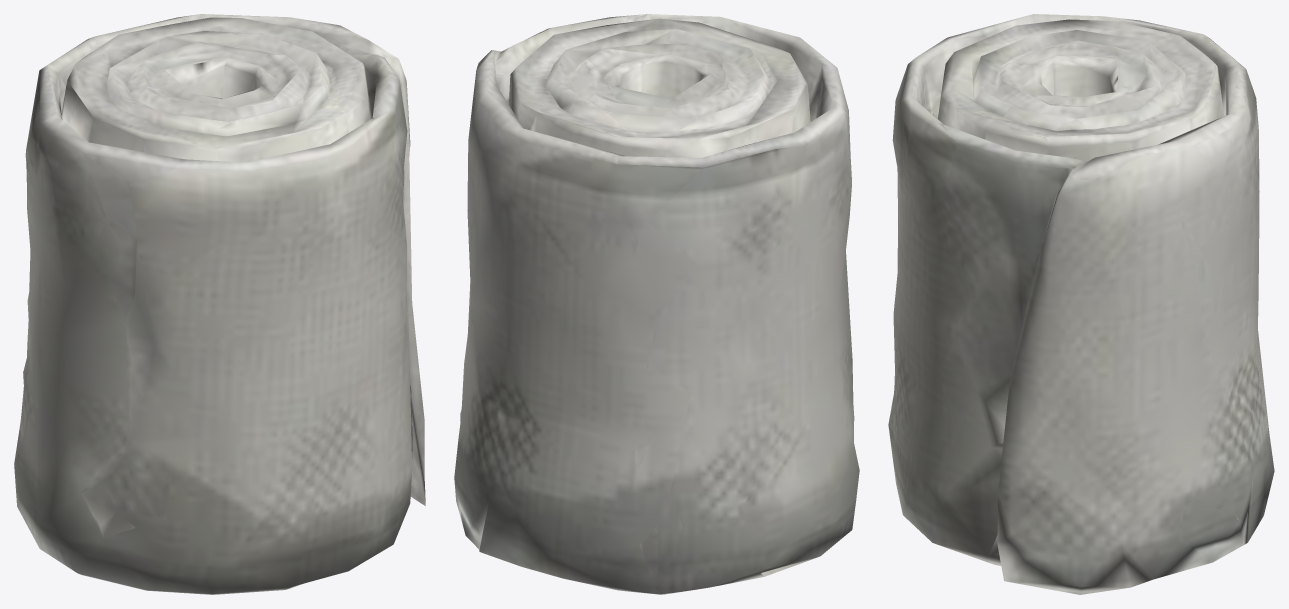
Rendered from bandage.glb.
The picture shows the model from 3 angles, left to right: view 1: azimuth 30°, elevation 25°; view 2: azimuth 150°, elevation 25°; view 3: azimuth 270°, elevation 25°; orthographic projection. The views are drawn at different scales.
Visible parts, largest first — view 1: Mesh1.0; view 2: Mesh1.0; view 3: Mesh1.0.
Boxes of the visible parts, x1=… form: Mesh1.0: x1=14, y1=14, x2=425, y2=594; Mesh1.0: x1=454, y1=14, x2=859, y2=594; Mesh1.0: x1=888, y1=14, x2=1274, y2=594.
Bounding box in the file's own units: 1.58 × 1.91 × 1.52.
1 material, 1 textured.
